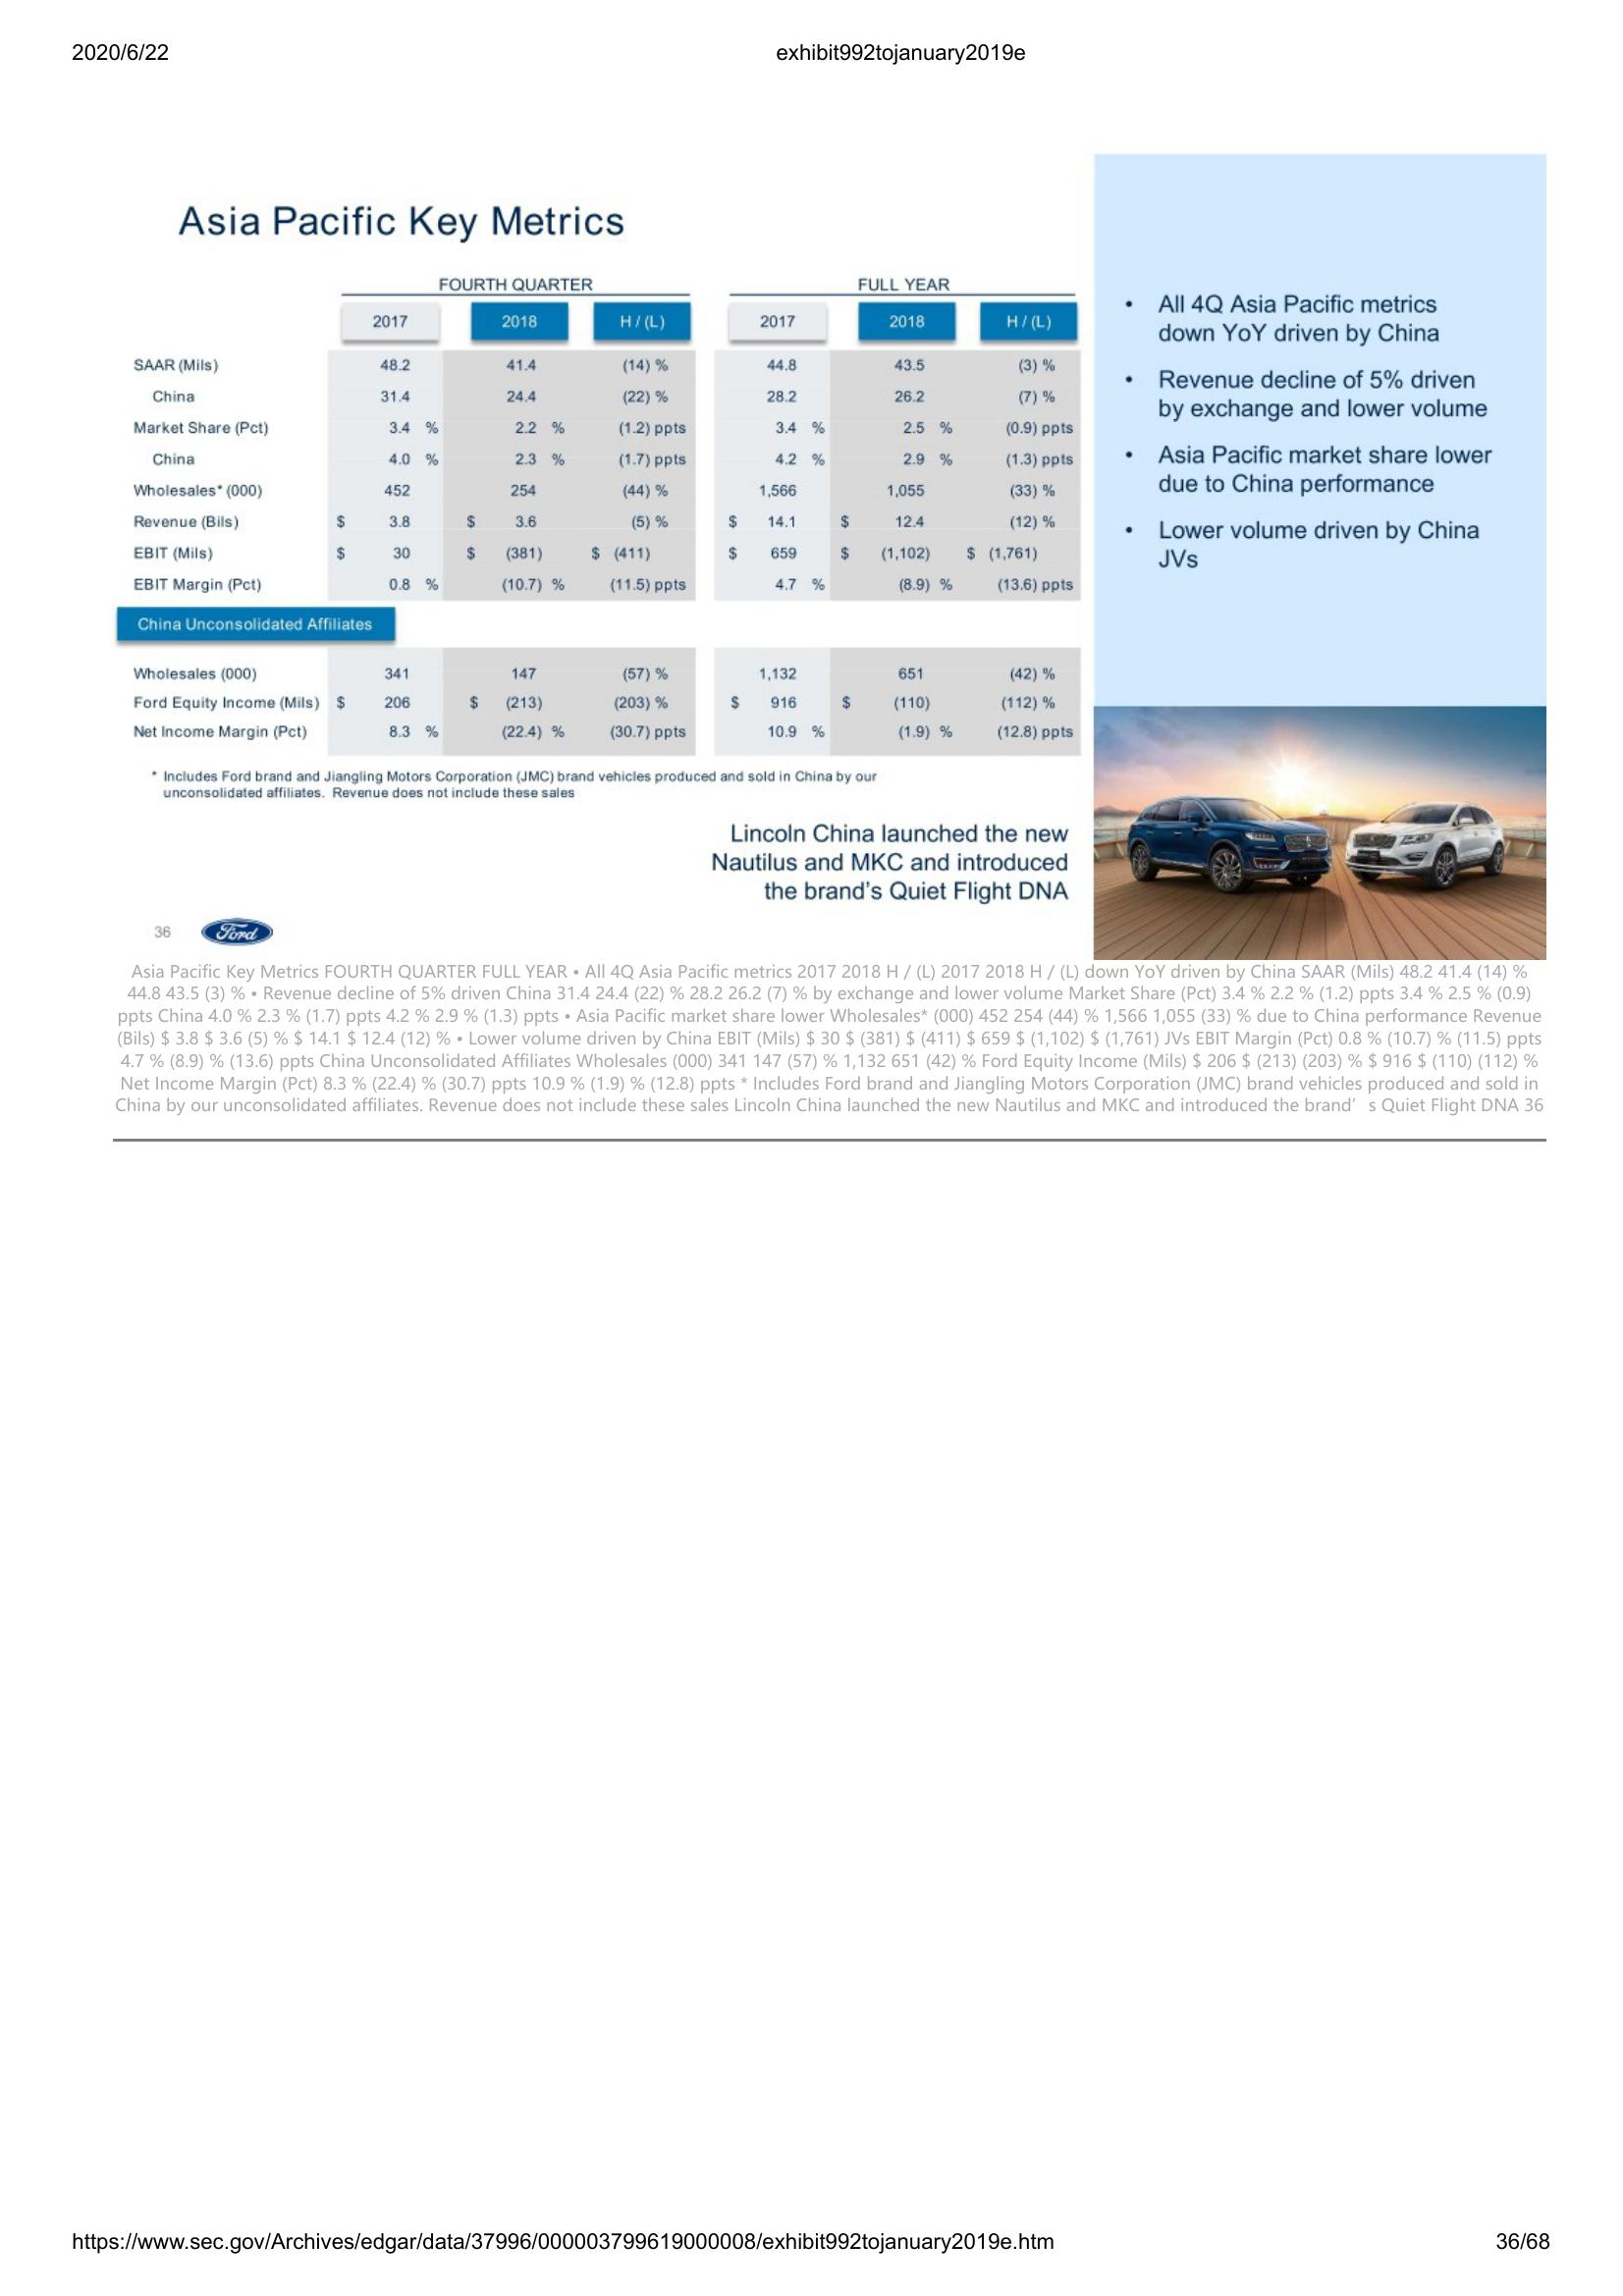table: (112, 267, 1080, 757)
